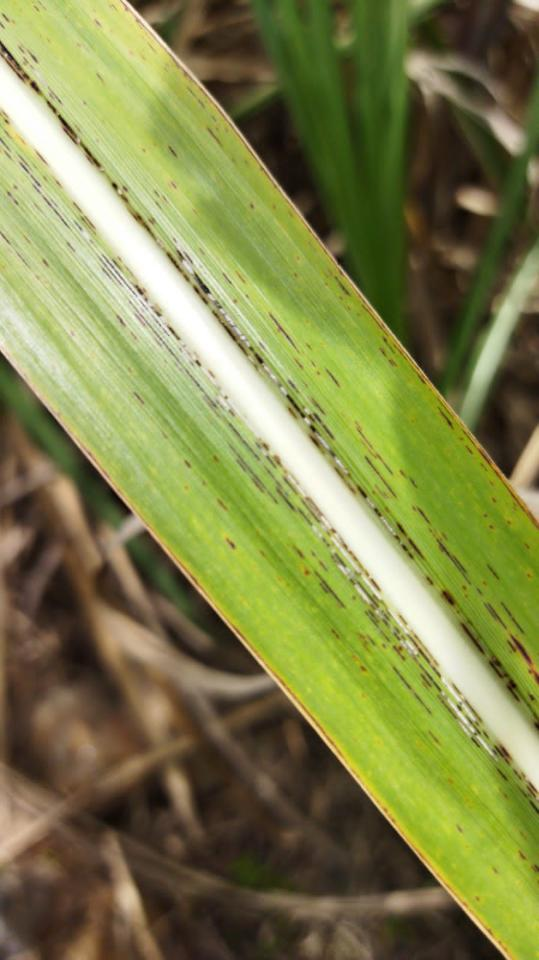Rust: (0, 6, 539, 735), (0, 108, 539, 821), (102, 0, 539, 586), (517, 849, 539, 875), (426, 728, 445, 751), (128, 389, 149, 409), (221, 535, 240, 555), (213, 496, 230, 515), (165, 142, 182, 161), (92, 69, 109, 88), (91, 16, 106, 32), (31, 0, 48, 14), (180, 456, 195, 471), (453, 821, 467, 836), (487, 865, 501, 877)
